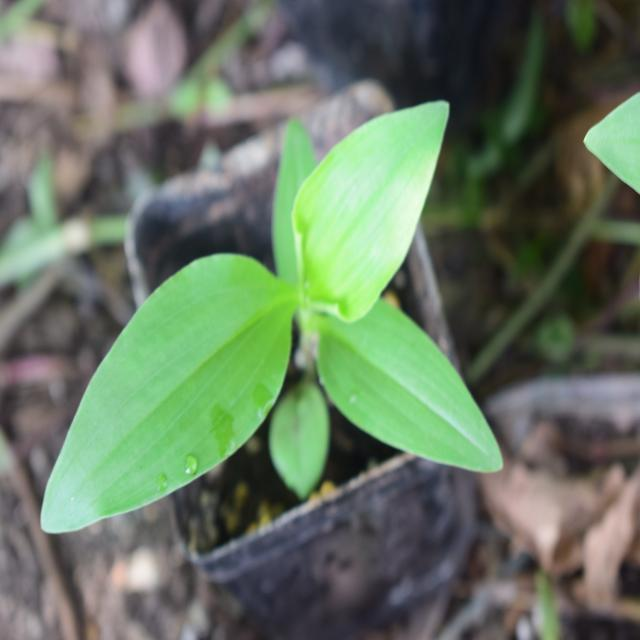Common Dayflower: (33, 98, 513, 531)
